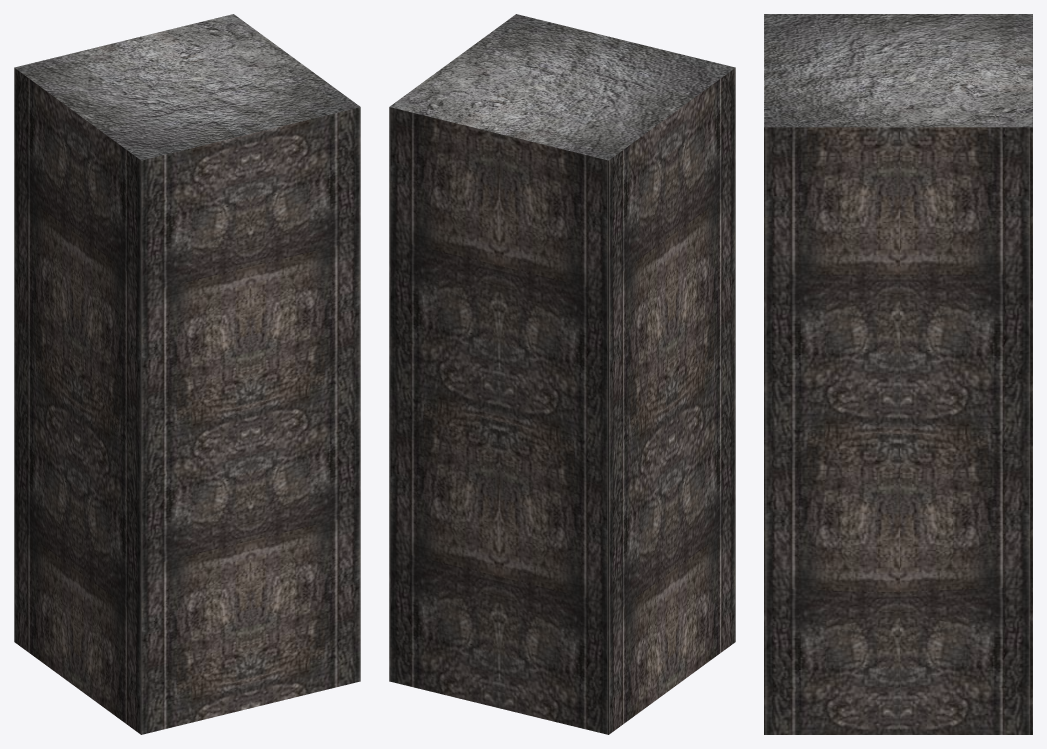
The picture shows the model from 3 angles, left to right: view 1: azimuth 30°, elevation 25°; view 2: azimuth 150°, elevation 25°; view 3: azimuth 270°, elevation 25°; orthographic projection. The views are drawn at different scales.
Visible parts, largest first — view 1: Box4027; view 2: Box4027; view 3: Box4027.
Boxes of the visible parts, x1=… form: Box4027: x1=14, y1=14, x2=360, y2=734; Box4027: x1=389, y1=14, x2=735, y2=734; Box4027: x1=764, y1=14, x2=1032, y2=734.
Bounding box in the file's own units: 100 × 250 × 100.
Materials: 2 (2 with a texture image).
